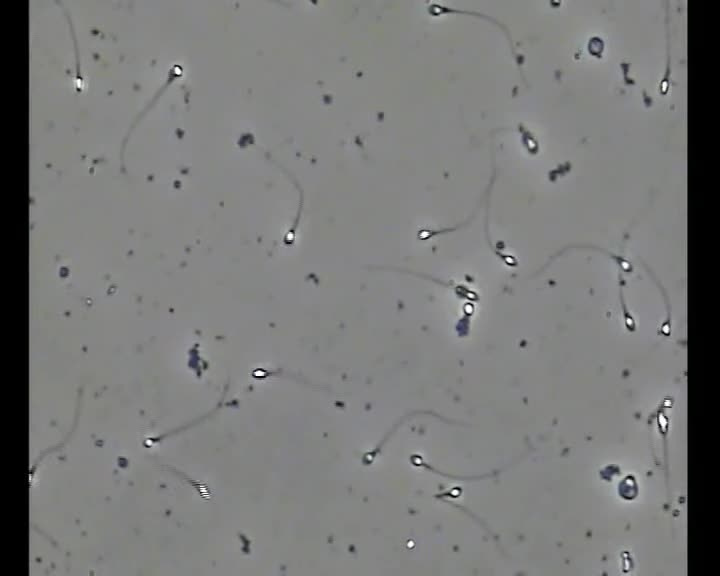spermhead: (517, 124, 538, 154), (617, 474, 638, 500), (453, 284, 478, 301), (600, 463, 621, 481), (586, 36, 603, 58), (657, 409, 670, 437), (618, 551, 633, 574), (455, 314, 470, 337), (428, 1, 450, 16), (658, 67, 670, 94), (616, 256, 633, 273), (73, 73, 86, 93), (252, 363, 272, 376), (168, 63, 183, 80), (362, 449, 377, 465), (446, 484, 462, 499), (657, 320, 671, 337), (190, 480, 208, 493), (623, 312, 635, 331), (143, 435, 160, 448), (409, 452, 424, 466), (502, 253, 516, 268), (283, 228, 296, 244), (419, 228, 436, 240), (662, 394, 675, 409), (462, 301, 474, 316), (222, 398, 239, 407), (493, 240, 504, 253), (29, 466, 37, 482), (407, 538, 416, 550), (549, 0, 559, 7), (87, 297, 94, 307)
